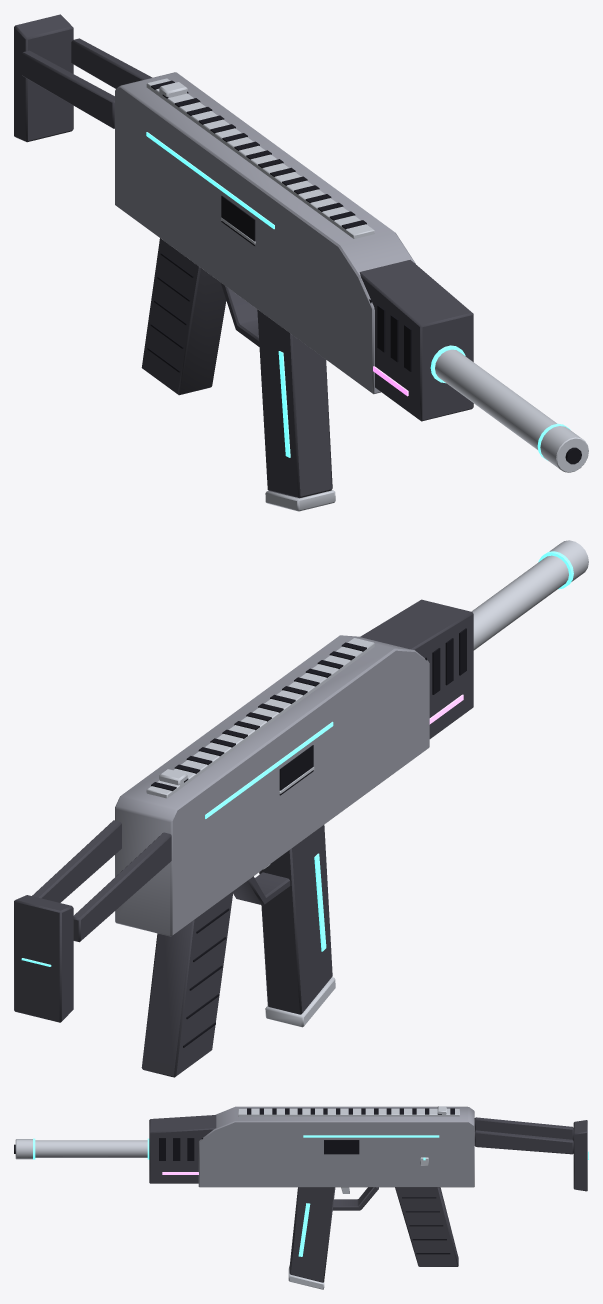
File: w_smg.glb
3 views of the same model, one above another, from view 1: azimuth 30°, elevation 25°; view 2: azimuth 150°, elevation 25°; view 3: azimuth 270°, elevation 25° (orthographic). The views are drawn at different scales.
Visible parts, largest first — view 1: body, grip, grip.mag, metal, dark, acc, metal.mag; view 2: body, grip, grip.mag, metal, dark, acc, metal.mag; view 3: body, grip, metal, grip.mag, dark, acc, metal.mag, acc.mag.
Part boxes in pixels (x1=…): body: x1=115, y1=72, x2=415, y2=394; grip: x1=14, y1=14, x2=473, y2=421; grip.mag: x1=257, y1=309, x2=332, y2=498; metal: x1=146, y1=78, x2=588, y2=472; dark: x1=147, y1=80, x2=581, y2=464; acc: x1=146, y1=132, x2=570, y2=460; metal.mag: x1=265, y1=490, x2=335, y2=511; body: x1=115, y1=635, x2=429, y2=936; grip: x1=14, y1=599, x2=473, y2=1077; grip.mag: x1=259, y1=825, x2=332, y2=1014; metal: x1=146, y1=540, x2=588, y2=869; dark: x1=151, y1=628, x2=466, y2=1047; acc: x1=21, y1=551, x2=573, y2=966; metal.mag: x1=265, y1=977, x2=335, y2=1027; body: x1=198, y1=1106, x2=474, y2=1187; grip: x1=149, y1=1115, x2=587, y2=1266; metal: x1=15, y1=1109, x2=459, y2=1193; grip.mag: x1=289, y1=1187, x2=335, y2=1282; dark: x1=14, y1=1108, x2=454, y2=1254; acc: x1=33, y1=1135, x2=588, y2=1160; metal.mag: x1=288, y1=1266, x2=324, y2=1289; acc.mag: x1=298, y1=1203, x2=310, y2=1256.
Size of the model in its own units: 0.0666 by 0.3296 by 0.972.
